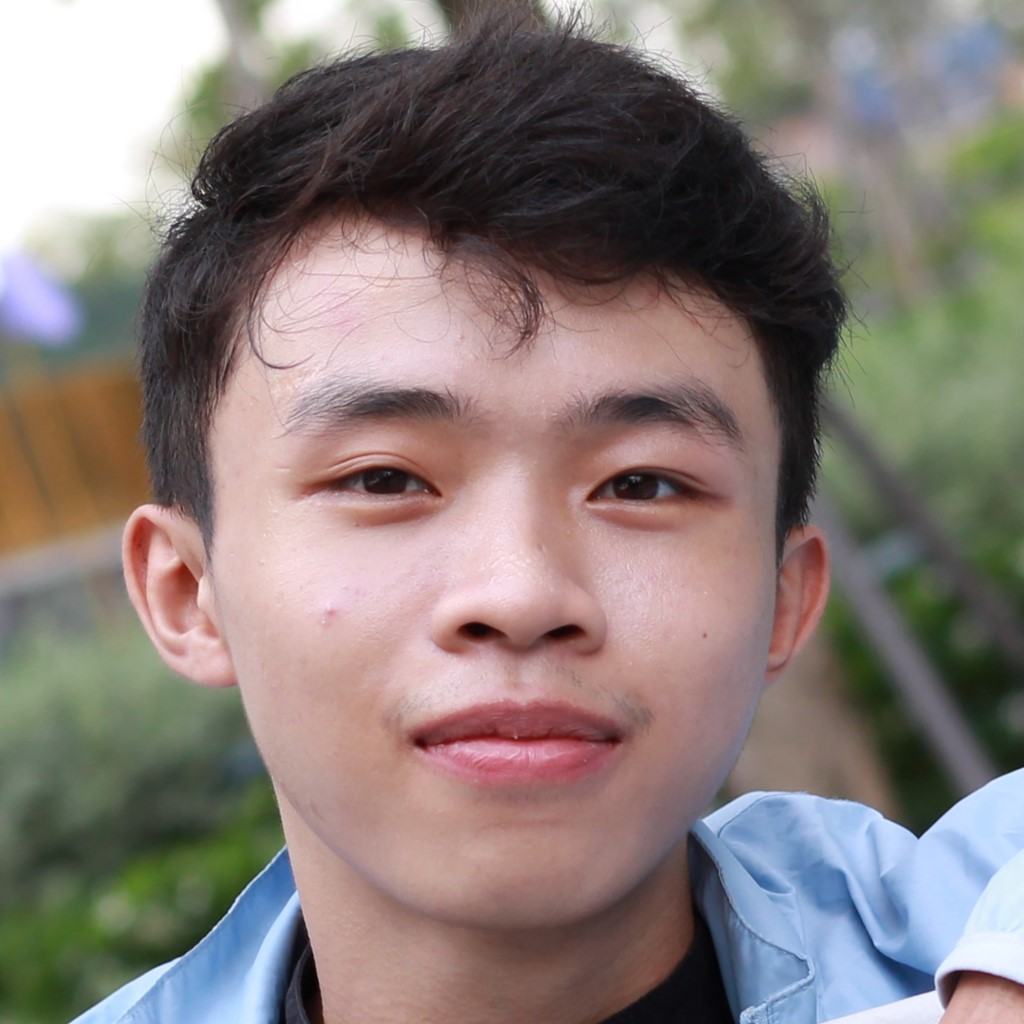sin_mascara: (180, 182, 794, 919)
